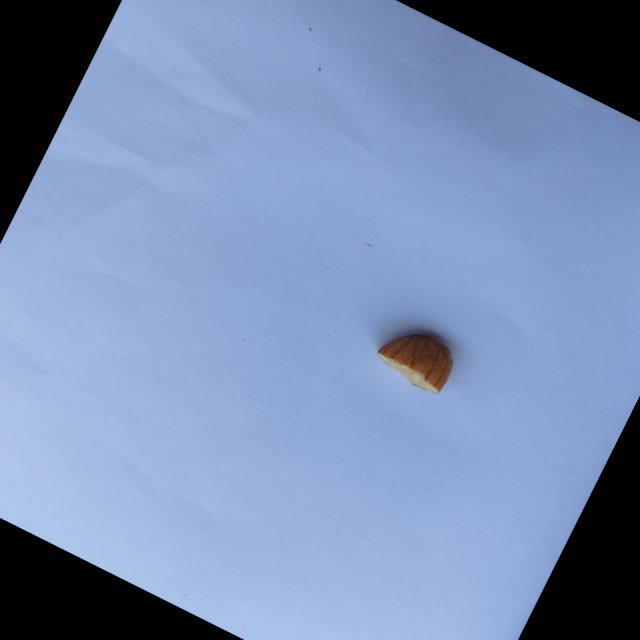grade4: (362, 308, 471, 405)
